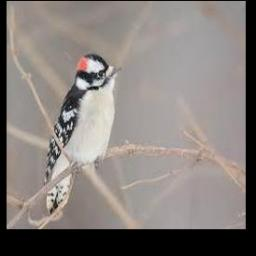Woodpecker: (44, 54, 121, 216)
